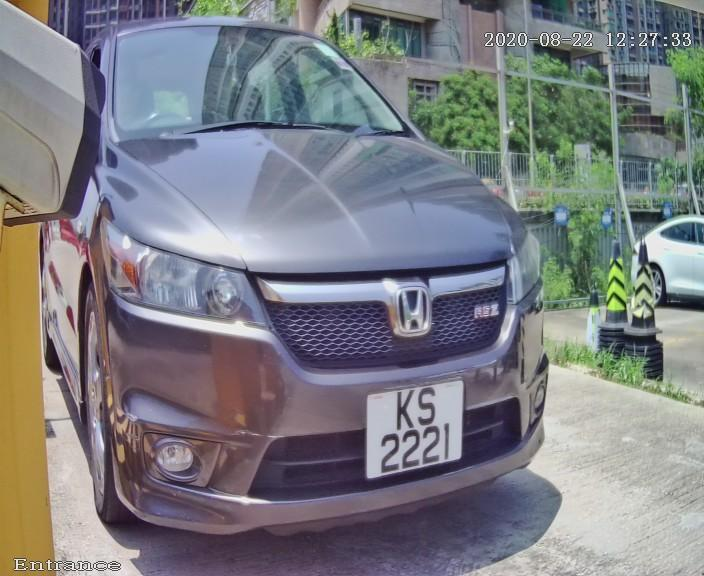Car: (29, 3, 585, 574)
License Plate: (356, 368, 469, 489)
